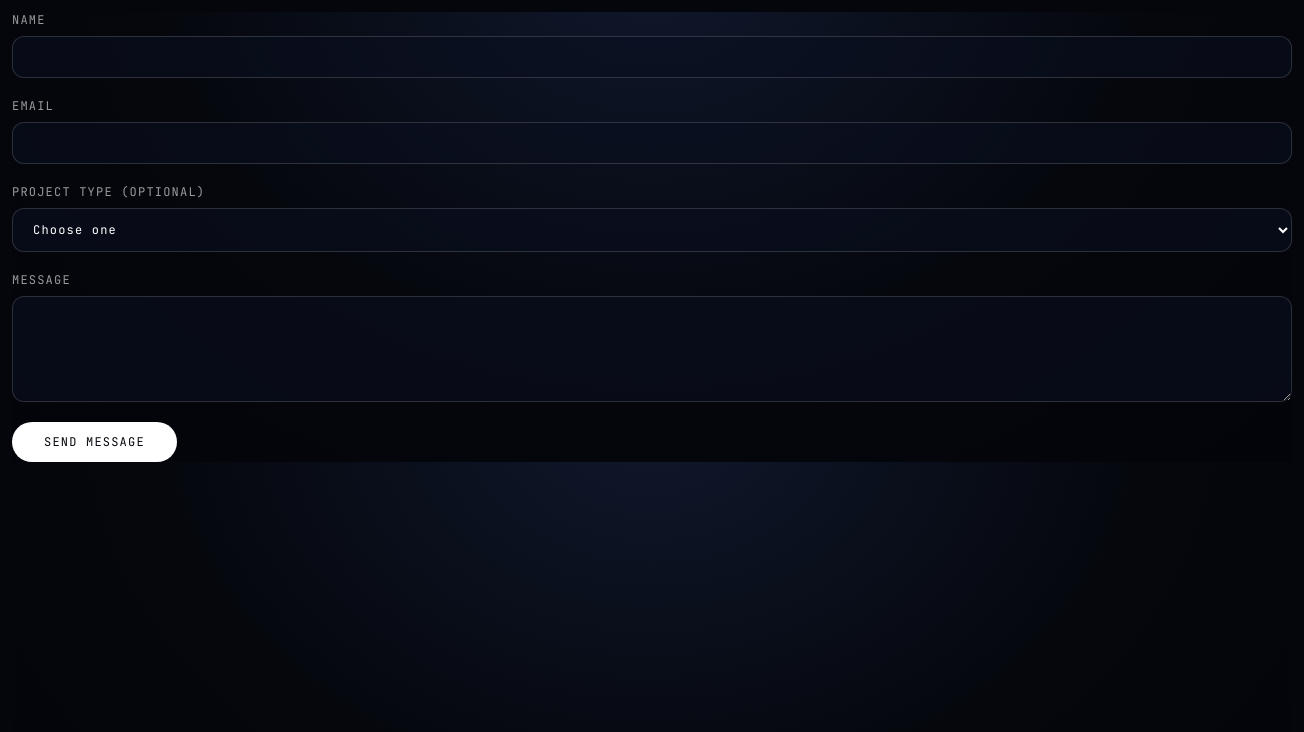
Test: ContactForm › reports a configuration error instead of faking a successful send
The width and height of the screenshot is (1304, 732).
Type "Ada Lovelace" into the field labelled "NAME" at (652, 57), box [12,36,1292,78]
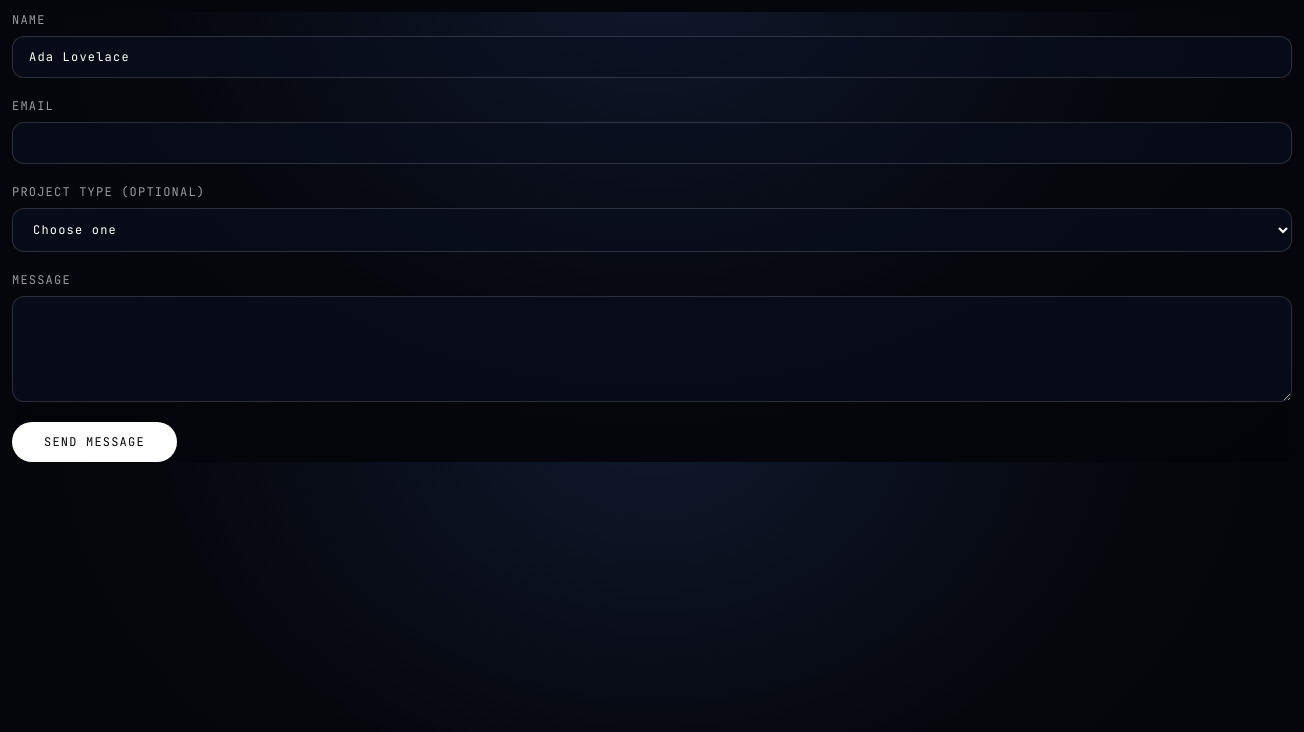
Type "ada@example.com" into the field labelled "EMAIL" at (652, 143), box [12,122,1292,164]
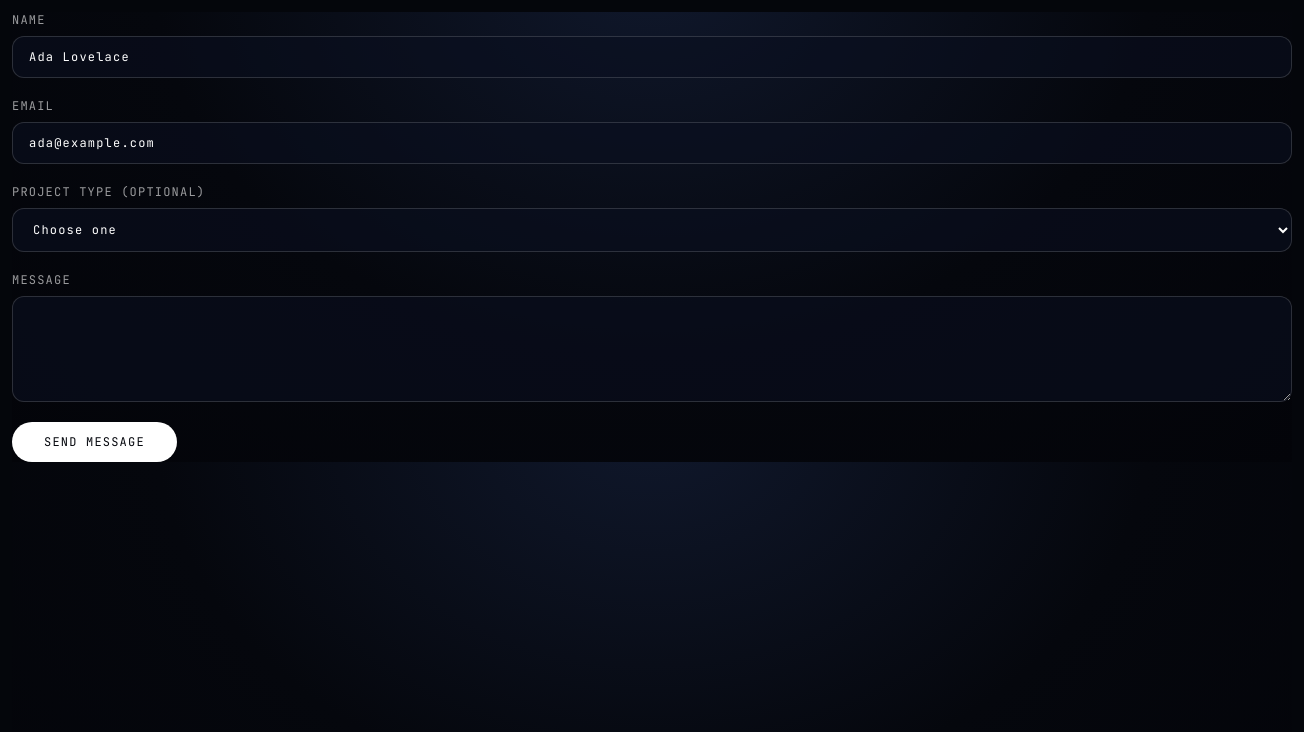
Type "A real message body." into the text box labelled "MESSAGE" at (652, 349), box [12,296,1292,402]
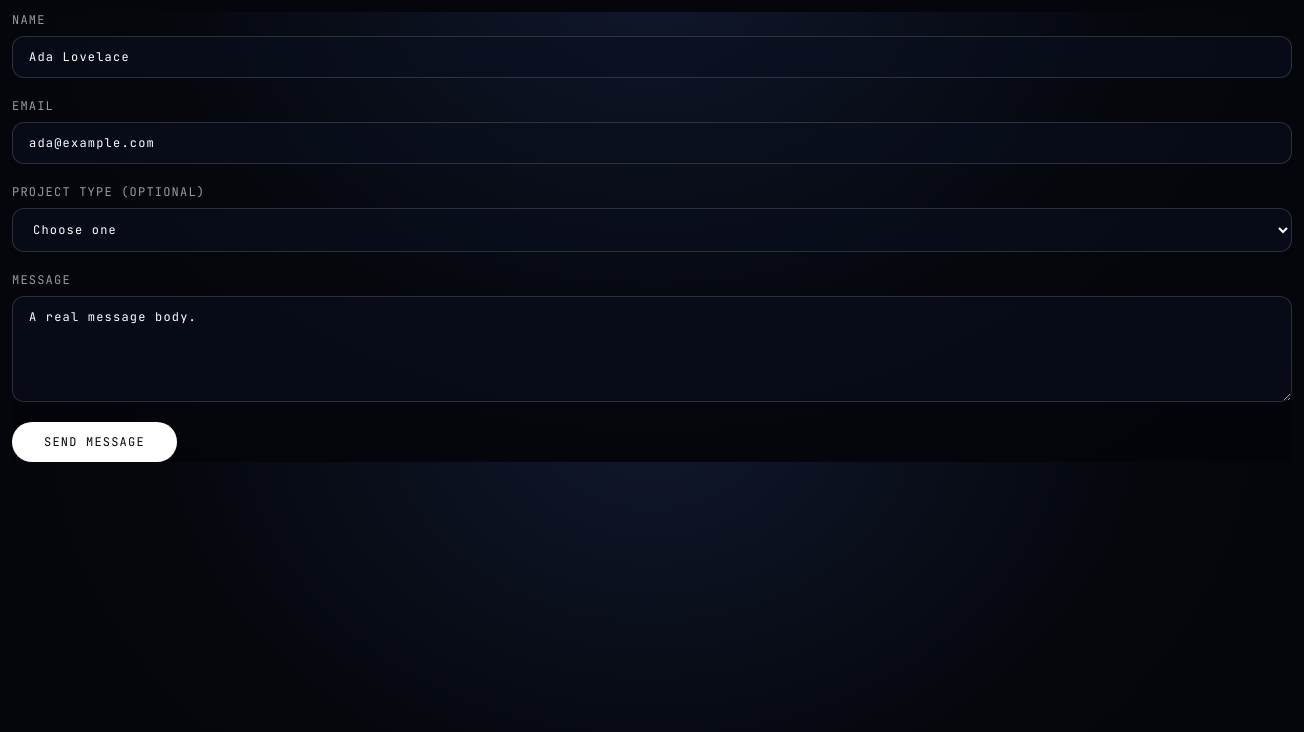
Click the button "SEND MESSAGE" at (94, 442), box [12,422,177,462]
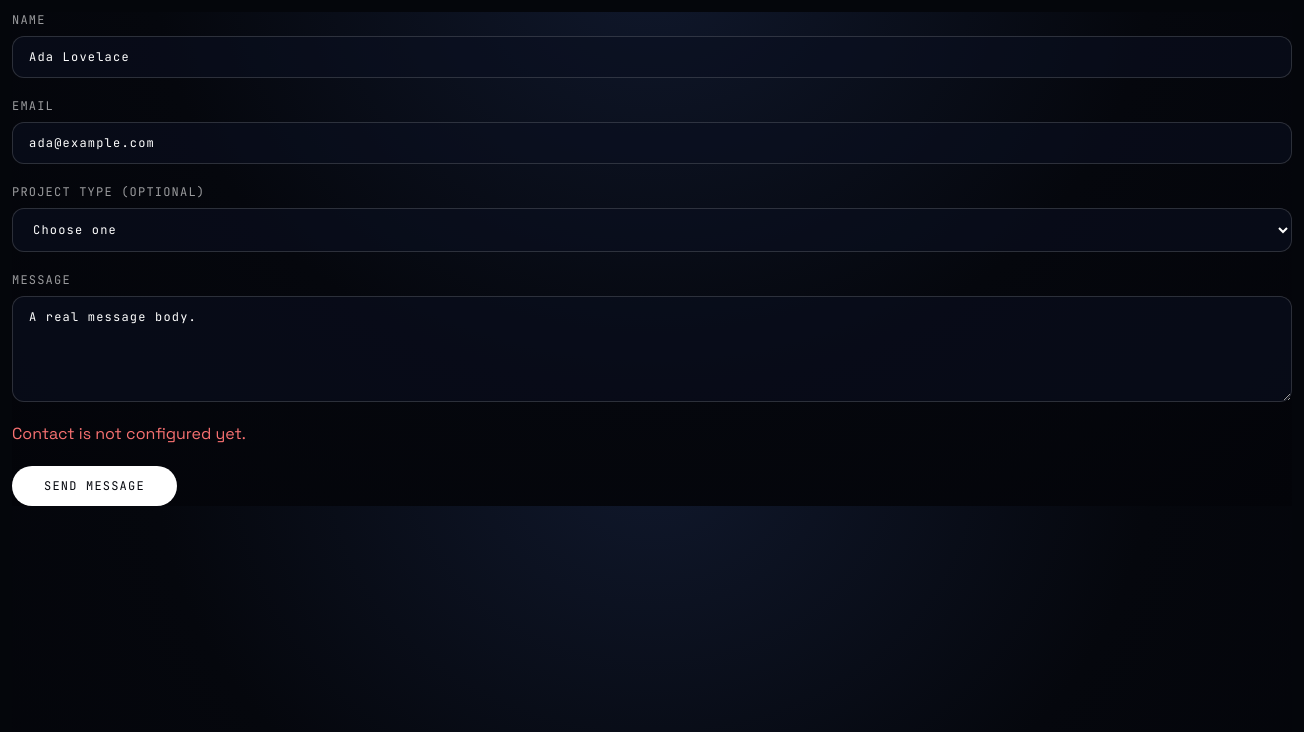
Result: the text "Contact is not configured yet." is shown at [12,423,246,444]
